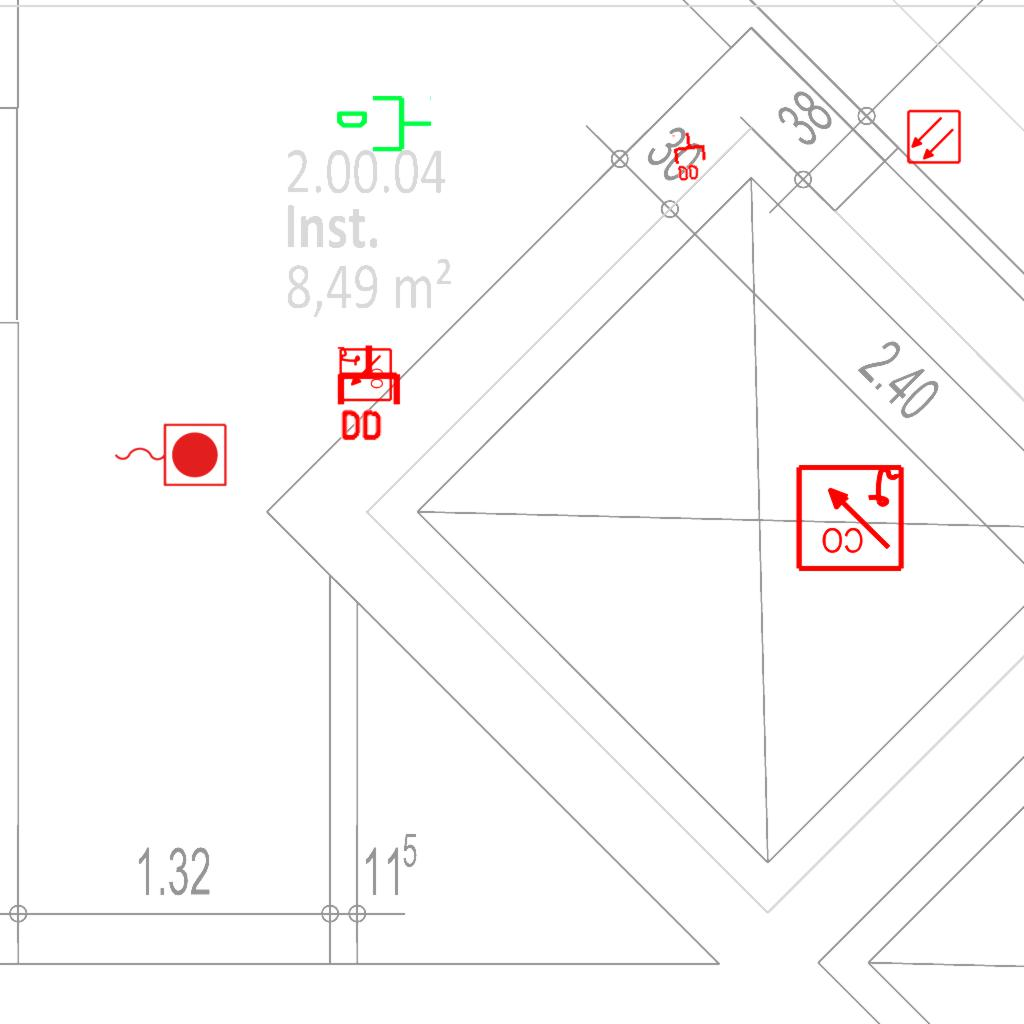Datenanschluss_einfach: (334, 91, 434, 160)
Datenanschluss_zweifach: (336, 342, 405, 445), (671, 129, 711, 184)
RMO_Rauchmelder_optischer: (906, 109, 962, 165)
ROA_Rauchmelder_optisch_mit_Signalgeber_(Sockelsirene): (793, 460, 906, 573), (337, 347, 393, 403)
Zugtaster: (109, 418, 231, 490)
